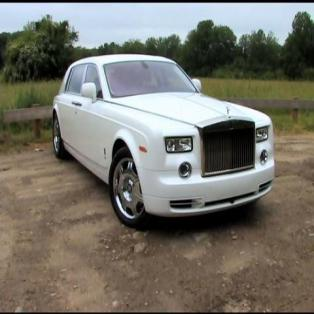Auto: (45, 39, 285, 236)
